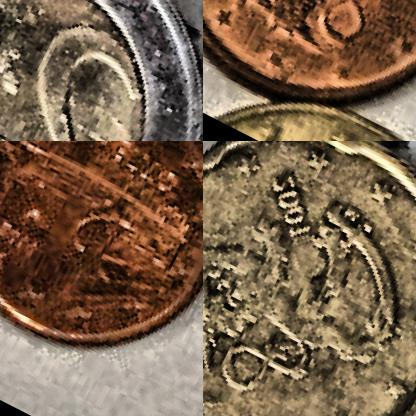coin: (203, 141, 415, 415), (0, 141, 202, 398), (203, 0, 415, 140), (0, 0, 202, 140)
